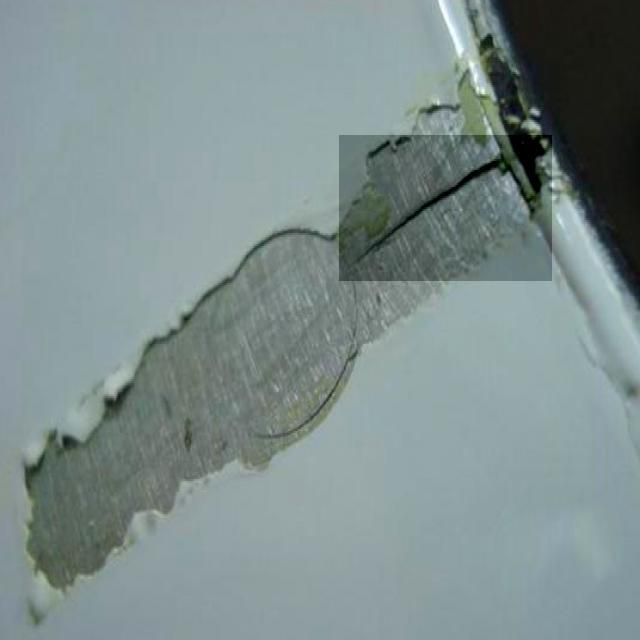crack: (340, 136, 553, 282)
